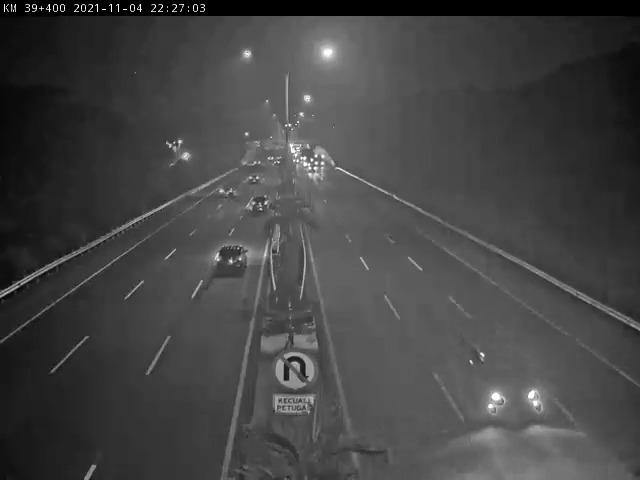car: (461, 332, 542, 422), (215, 245, 249, 276), (249, 196, 269, 213)
